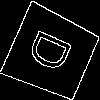D: (26, 27, 82, 79)
